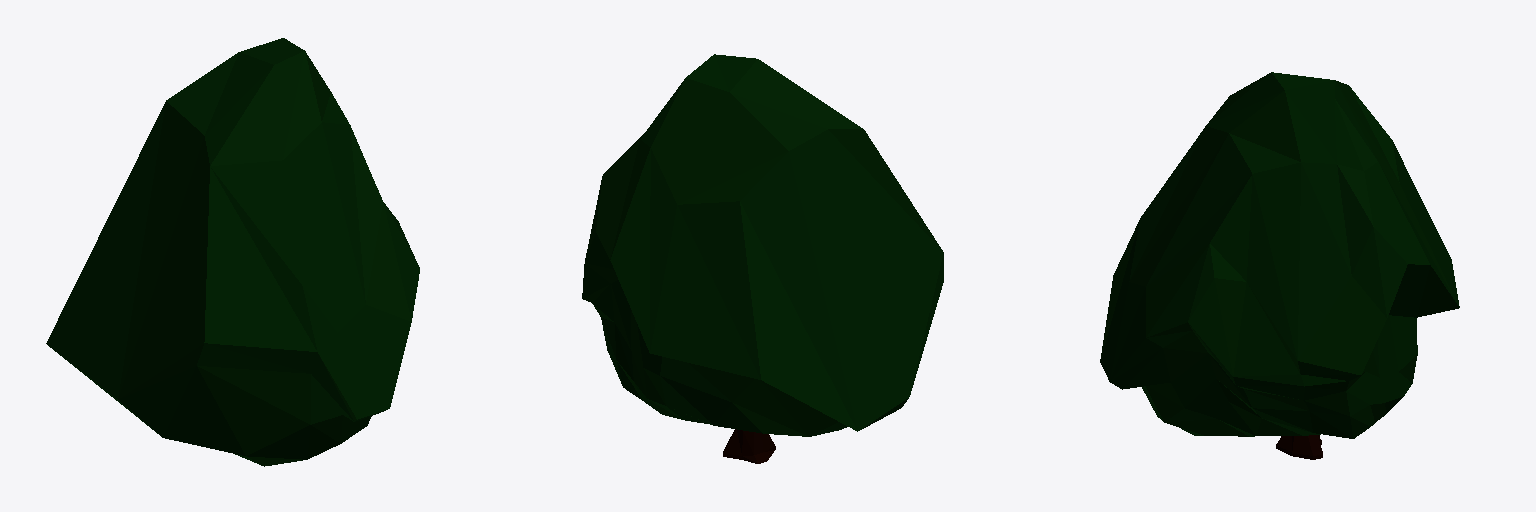
The model's file is bushy.obj.
3 views of the same model, side by side, from view 1: azimuth 30°, elevation 25°; view 2: azimuth 150°, elevation 25°; view 3: azimuth 270°, elevation 25° (orthographic).
Visible parts, largest first — view 1: Cube.032; view 2: Cube.032, Cylinder.128; view 3: Cube.032, Cylinder.128.
Part boxes in pixels (x1,y1,x2,y2): Cube.032: (46,38,419,466); Cube.032: (582,54,943,436); Cylinder.128: (723,429,775,463); Cube.032: (1100,72,1459,438); Cylinder.128: (1276,435,1322,459).
Size of the model in its own units: 13.09 by 15.93 by 13.6.